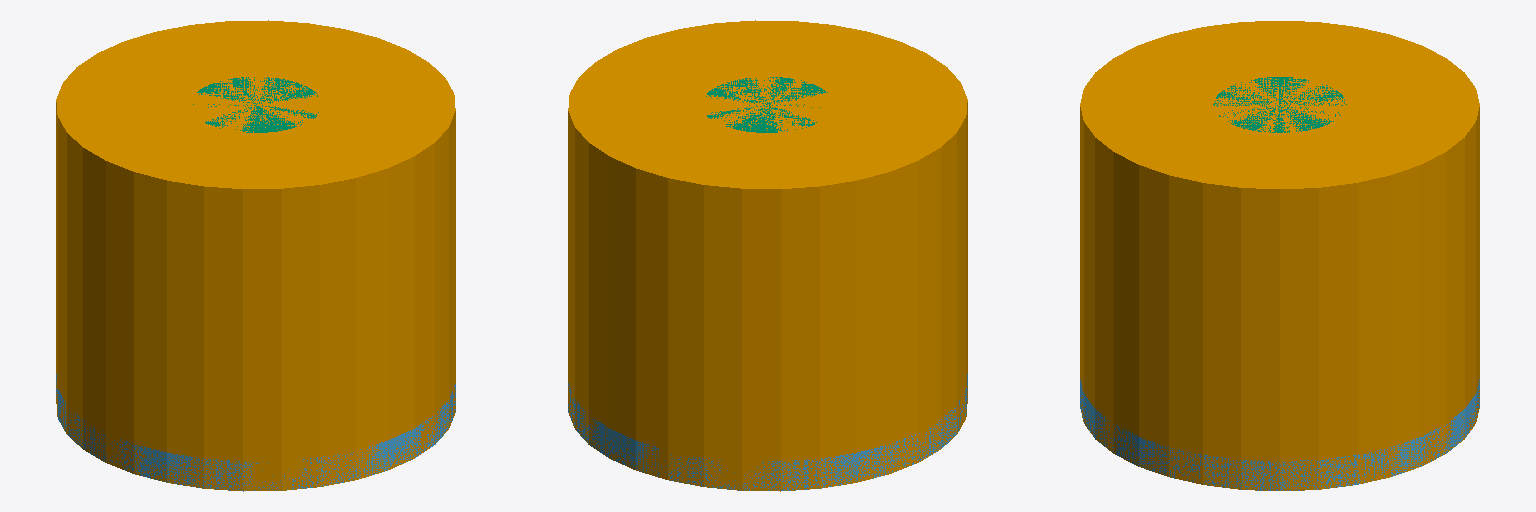
The robot description file, URDF, robot "3_bottom":
<?xml version="1.0"?>

<robot name="3_bottom">

    <!-- The base --> 
    <link name="base_link">
        <inertial>
            <origin xyz="0 0 .5" rpy="0 0 0"/>
            <mass value="1"/>
            <inertia ixx="0.1" ixy="0.0" ixz="0.0" iyy="0.1" iyz="0.0" izz="0.1"/>
        </inertial>
        <visual>
            <origin xyz="0 0 .5" rpy="0 0 0"/>
            <geometry>
                <cylinder length="1" radius="0.6"/>
            </geometry>
        </visual>
        <collision>
            <origin xyz="0 0 .5" rpy="0 0 0"/>
            <geometry>
                <cylinder length="1" radius="0.6"/>
            </geometry>
        </collision>
    </link>

    <!-- 0 -->
    <link name="0_link">
        <inertial>
            <origin xyz="0 0 0" rpy="0 0 0"/>
            <mass value="1"/>
            <inertia ixx="0.01" ixy="0.0" ixz="0.0" iyy="0.01" iyz="0.0" izz="0.01"/>
        </inertial>
        <visual>
            <origin xyz="0 0 0" rpy="0 0 0"/>
            <geometry>
                <cylinder length="0.1" radius="0.6"/>
            </geometry>
        </visual>
        <collision>
            <origin xyz="0 0 0" rpy="0 0 0"/>
            <geometry>
                <cylinder length="0.1" radius="0.6"/>
            </geometry>
        </collision>
    </link>

    <!-- Joint from base to 0 -->
    <joint name="base_0_joint" type="fixed">
        <parent link="base_link"/>
        <child link="0_link"/>
        <origin xyz="0 0 0.05" rpy="0 0 0"/>
    </joint>

    <!-- 1 -->
    <link name="1_link">
        <inertial>
            <origin xyz="0 0 0" rpy="0 0 0"/>
            <mass value="1"/>
            <inertia ixx="0.01" ixy="0.0" ixz="0.0" iyy="0.01" iyz="0.0" izz="0.01"/>
        </inertial>
        <visual>
            <origin xyz="0 0 0" rpy="0 0 0"/>
            <geometry>
                <cylinder length="0.9" radius="0.2"/>
            </geometry>
        </visual>
        <collision>
            <origin xyz="0 0 0" rpy="0 0 0"/>
            <geometry>
                <cylinder length="0.9" radius="0.2"/>
            </geometry>
        </collision>
    </link>

    <!-- Joint from 0 to 1 -->
    <joint name="0_1_joint" type="fixed">
        <parent link="0_link"/>
        <child link="1_link"/>
        <origin xyz="0 0 0.5" rpy="0 0 0"/>
    </joint>

</robot>

--- Facts derived from the render (not from the file) ---
Views: 3 orthographic renders of the robot side by side, from view 1: azimuth 30°, elevation 25°; view 2: azimuth 150°, elevation 25°; view 3: azimuth 270°, elevation 25°.
Model 3_bottom with 3 links and 2 joints (2 fixed), rooted at base_link, posed all joints at 0.
Links seen in each view (by area): view 1: base_link, 0_link, 1_link; view 2: base_link, 0_link, 1_link; view 3: base_link, 0_link, 1_link.
Link boxes in pixels (x1,y1,x2,y2): base_link: (56,20,455,490); 0_link: (56,374,455,491); 1_link: (193,77,318,132); base_link: (568,20,967,491); 0_link: (568,374,967,490); 1_link: (706,77,827,132); base_link: (1080,21,1479,490); 0_link: (1080,379,1479,490); 1_link: (1213,77,1346,132).
Size in the robot's own frame: 1.2 by 1.2 by 1 metres.
Geometry: primitives only (box / cylinder / sphere), no mesh files.
